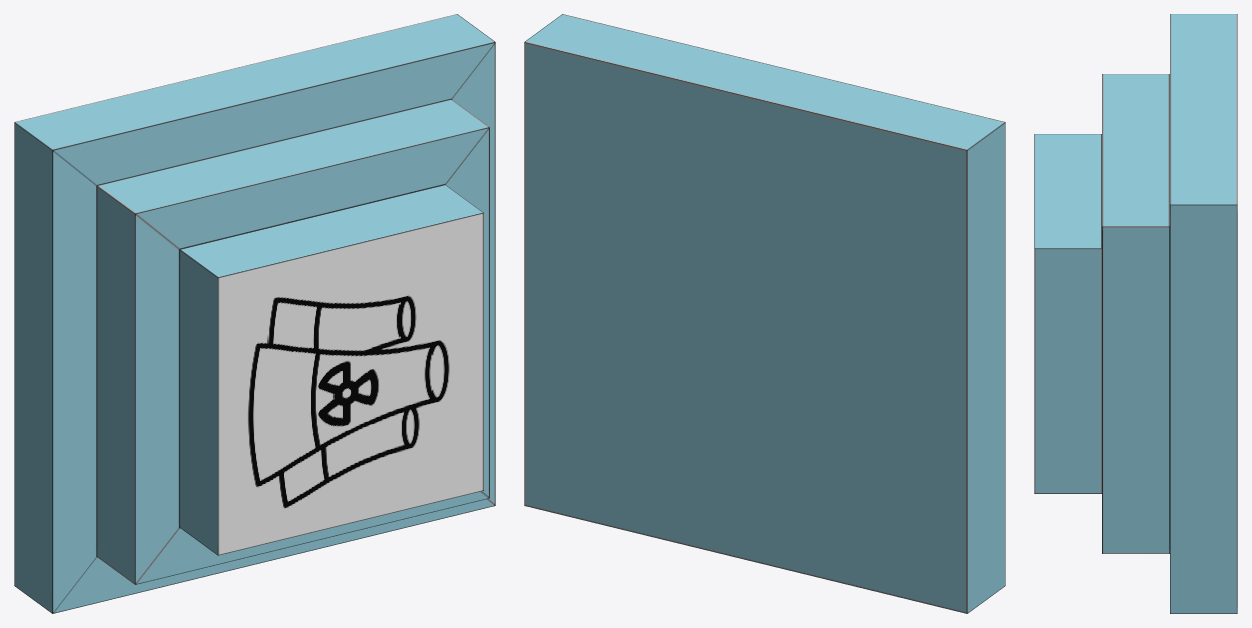
The model's file is NuclearLevel3_rot_2_3.fbx.
3 views of the same model, side by side, from view 1: azimuth 30°, elevation 25°; view 2: azimuth 150°, elevation 25°; view 3: azimuth 270°, elevation 25° (orthographic). The views are drawn at different scales.
Visible parts, largest first — view 1: Plane; view 2: Plane; view 3: Plane.
Part boxes in pixels (<box>): Plane: <box>14,14,495,613</box>; Plane: <box>524,14,1005,613</box>; Plane: <box>1034,14,1237,613</box>.
Size of the model in its own units: 460 by 460 by 207.
1 material, 1 textured.
